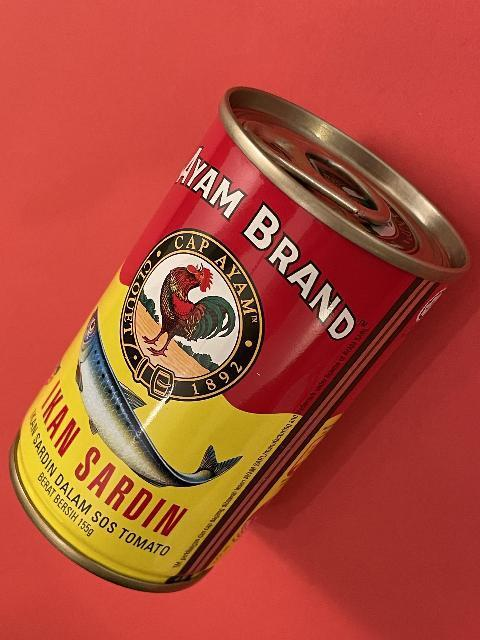foodcan: (9, 82, 474, 596)
